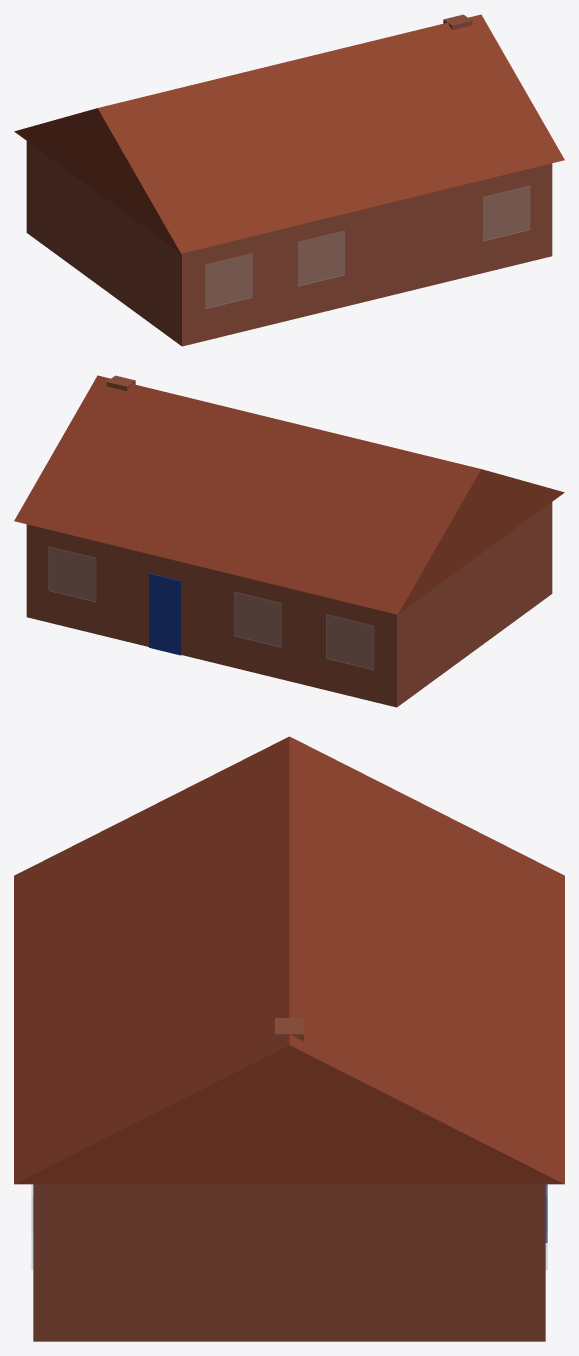
The model's file is context.bungalow.glb.
The picture shows the model from 3 angles, top to bottom: view 1: azimuth 30°, elevation 25°; view 2: azimuth 150°, elevation 25°; view 3: azimuth 270°, elevation 25°; orthographic projection. The views are drawn at different scales.
Parts seen in each view (by area): view 1: roof__clay_tile, walls__brick, openings__glass; view 2: roof__clay_tile, walls__brick, openings__glass, openings__plastic_blue; view 3: roof__clay_tile, walls__brick.
Boxes of the visible parts, x1,y1,x2,y2 form: roof__clay_tile: [14, 14, 564, 253]; walls__brick: [26, 141, 552, 346]; openings__glass: [205, 186, 529, 308]; roof__clay_tile: [14, 375, 564, 614]; walls__brick: [26, 502, 552, 707]; openings__glass: [49, 547, 373, 669]; openings__plastic_blue: [149, 573, 181, 655]; roof__clay_tile: [14, 736, 564, 1184]; walls__brick: [33, 1184, 545, 1341].
Size of the model in its own units: 11.4 by 5.2 by 8.6.
